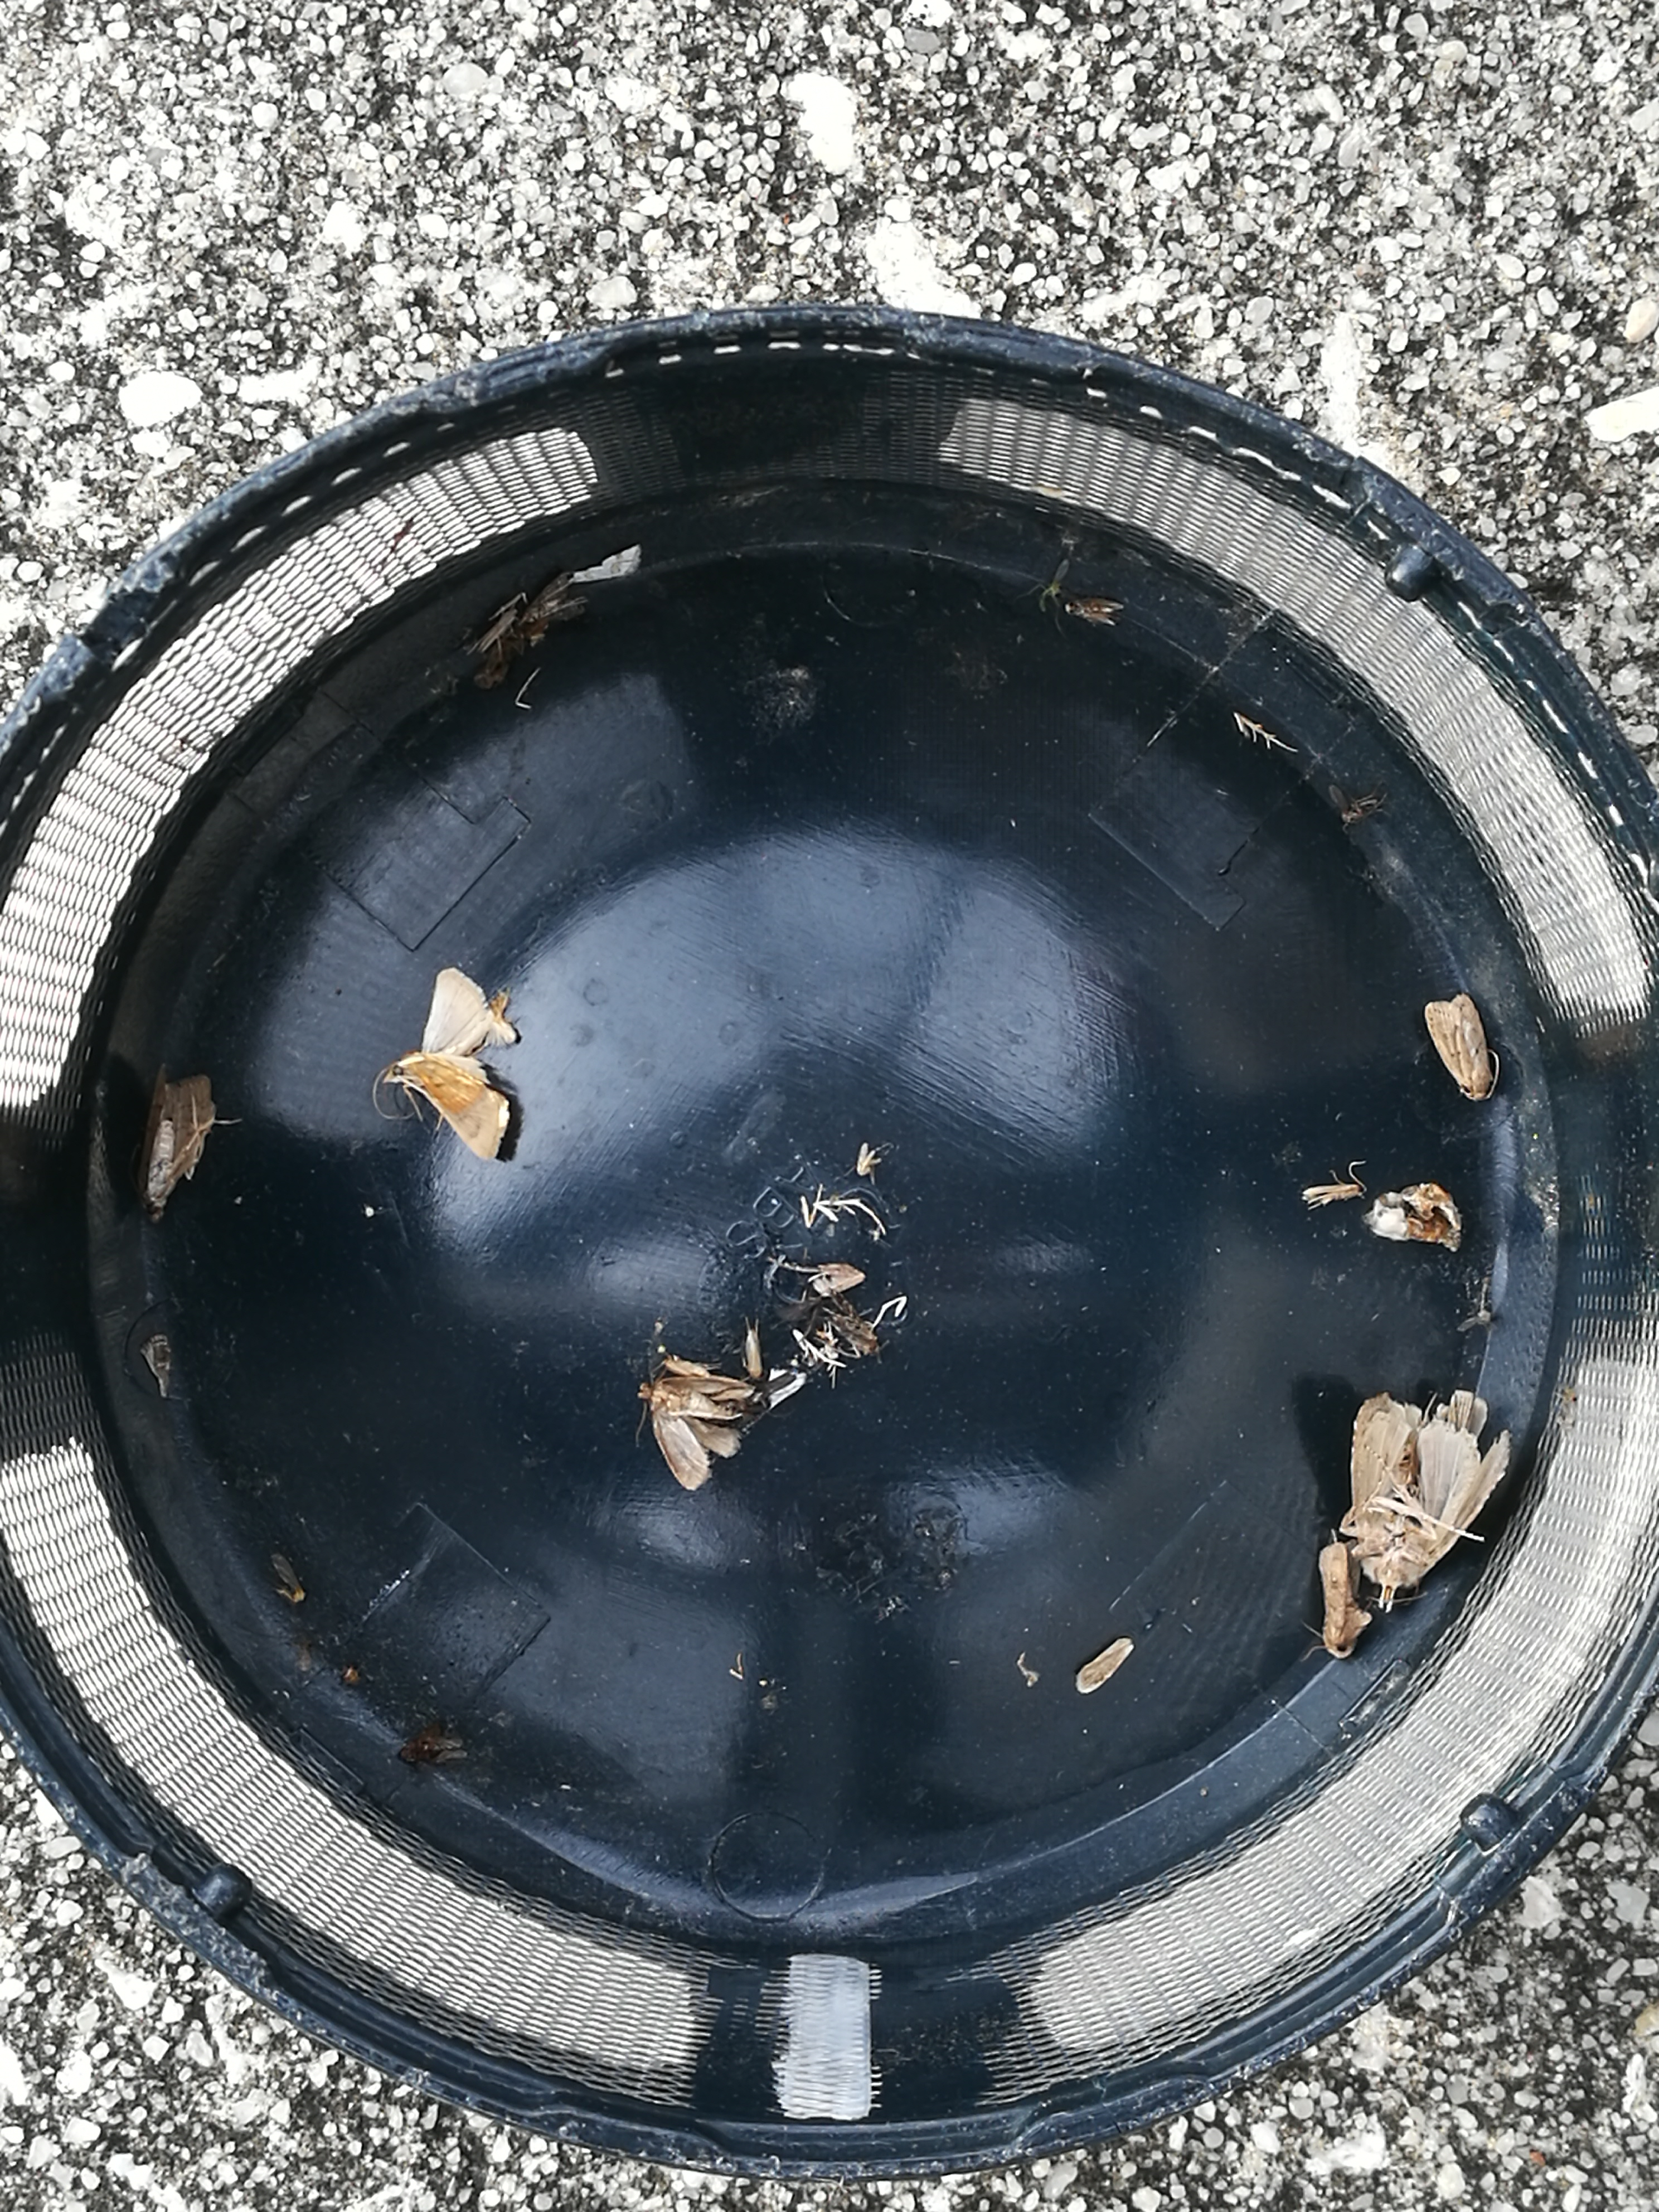moth: (1349, 1399, 1509, 1588), (396, 974, 512, 1157), (650, 1378, 748, 1487), (146, 1064, 211, 1212), (1425, 996, 1490, 1097), (1321, 1543, 1358, 1662)
